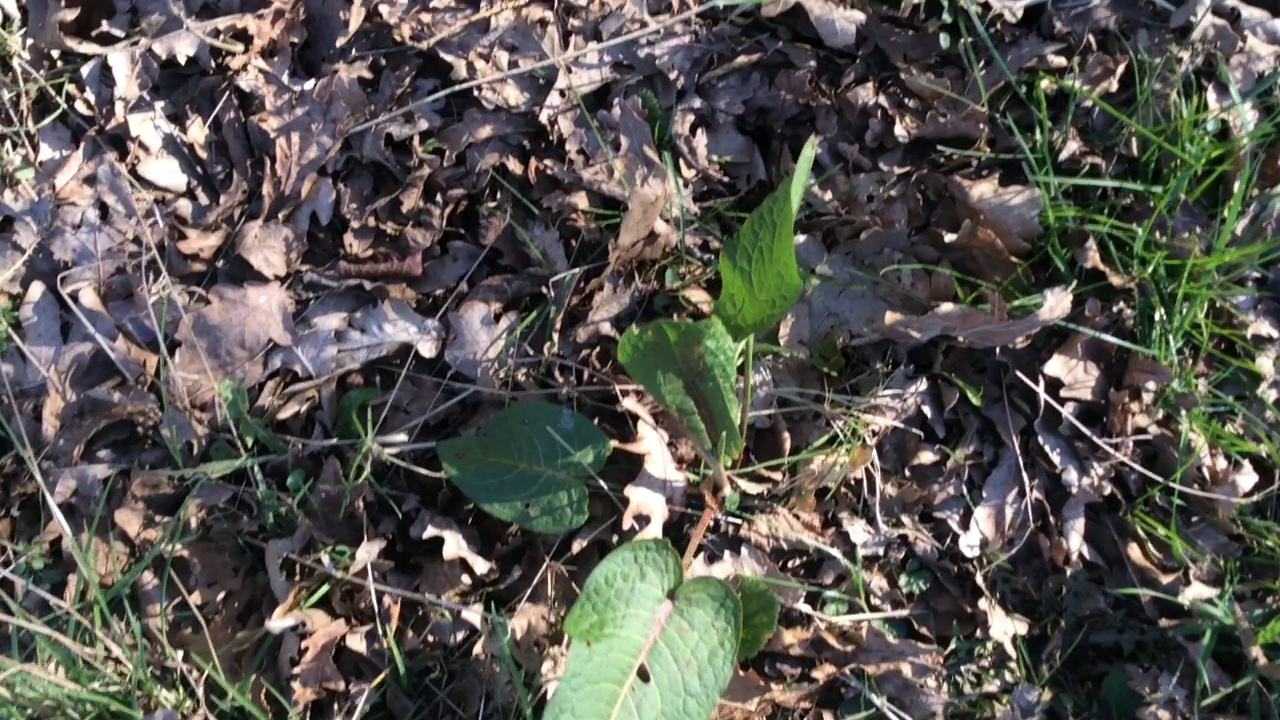rumex: (434, 135, 817, 720)
